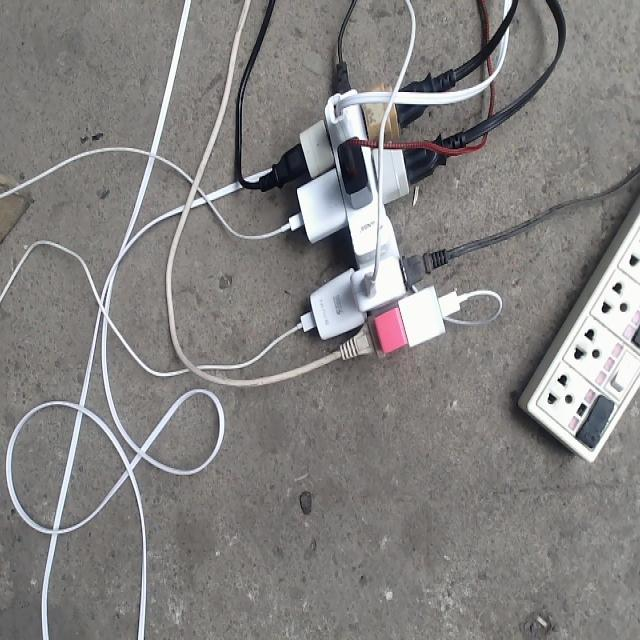-: (274, 61, 460, 364)
